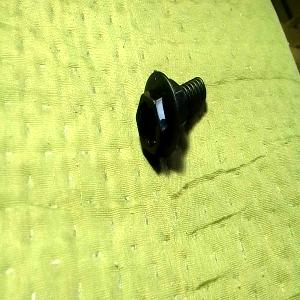parafuso: (136, 70, 207, 160)
